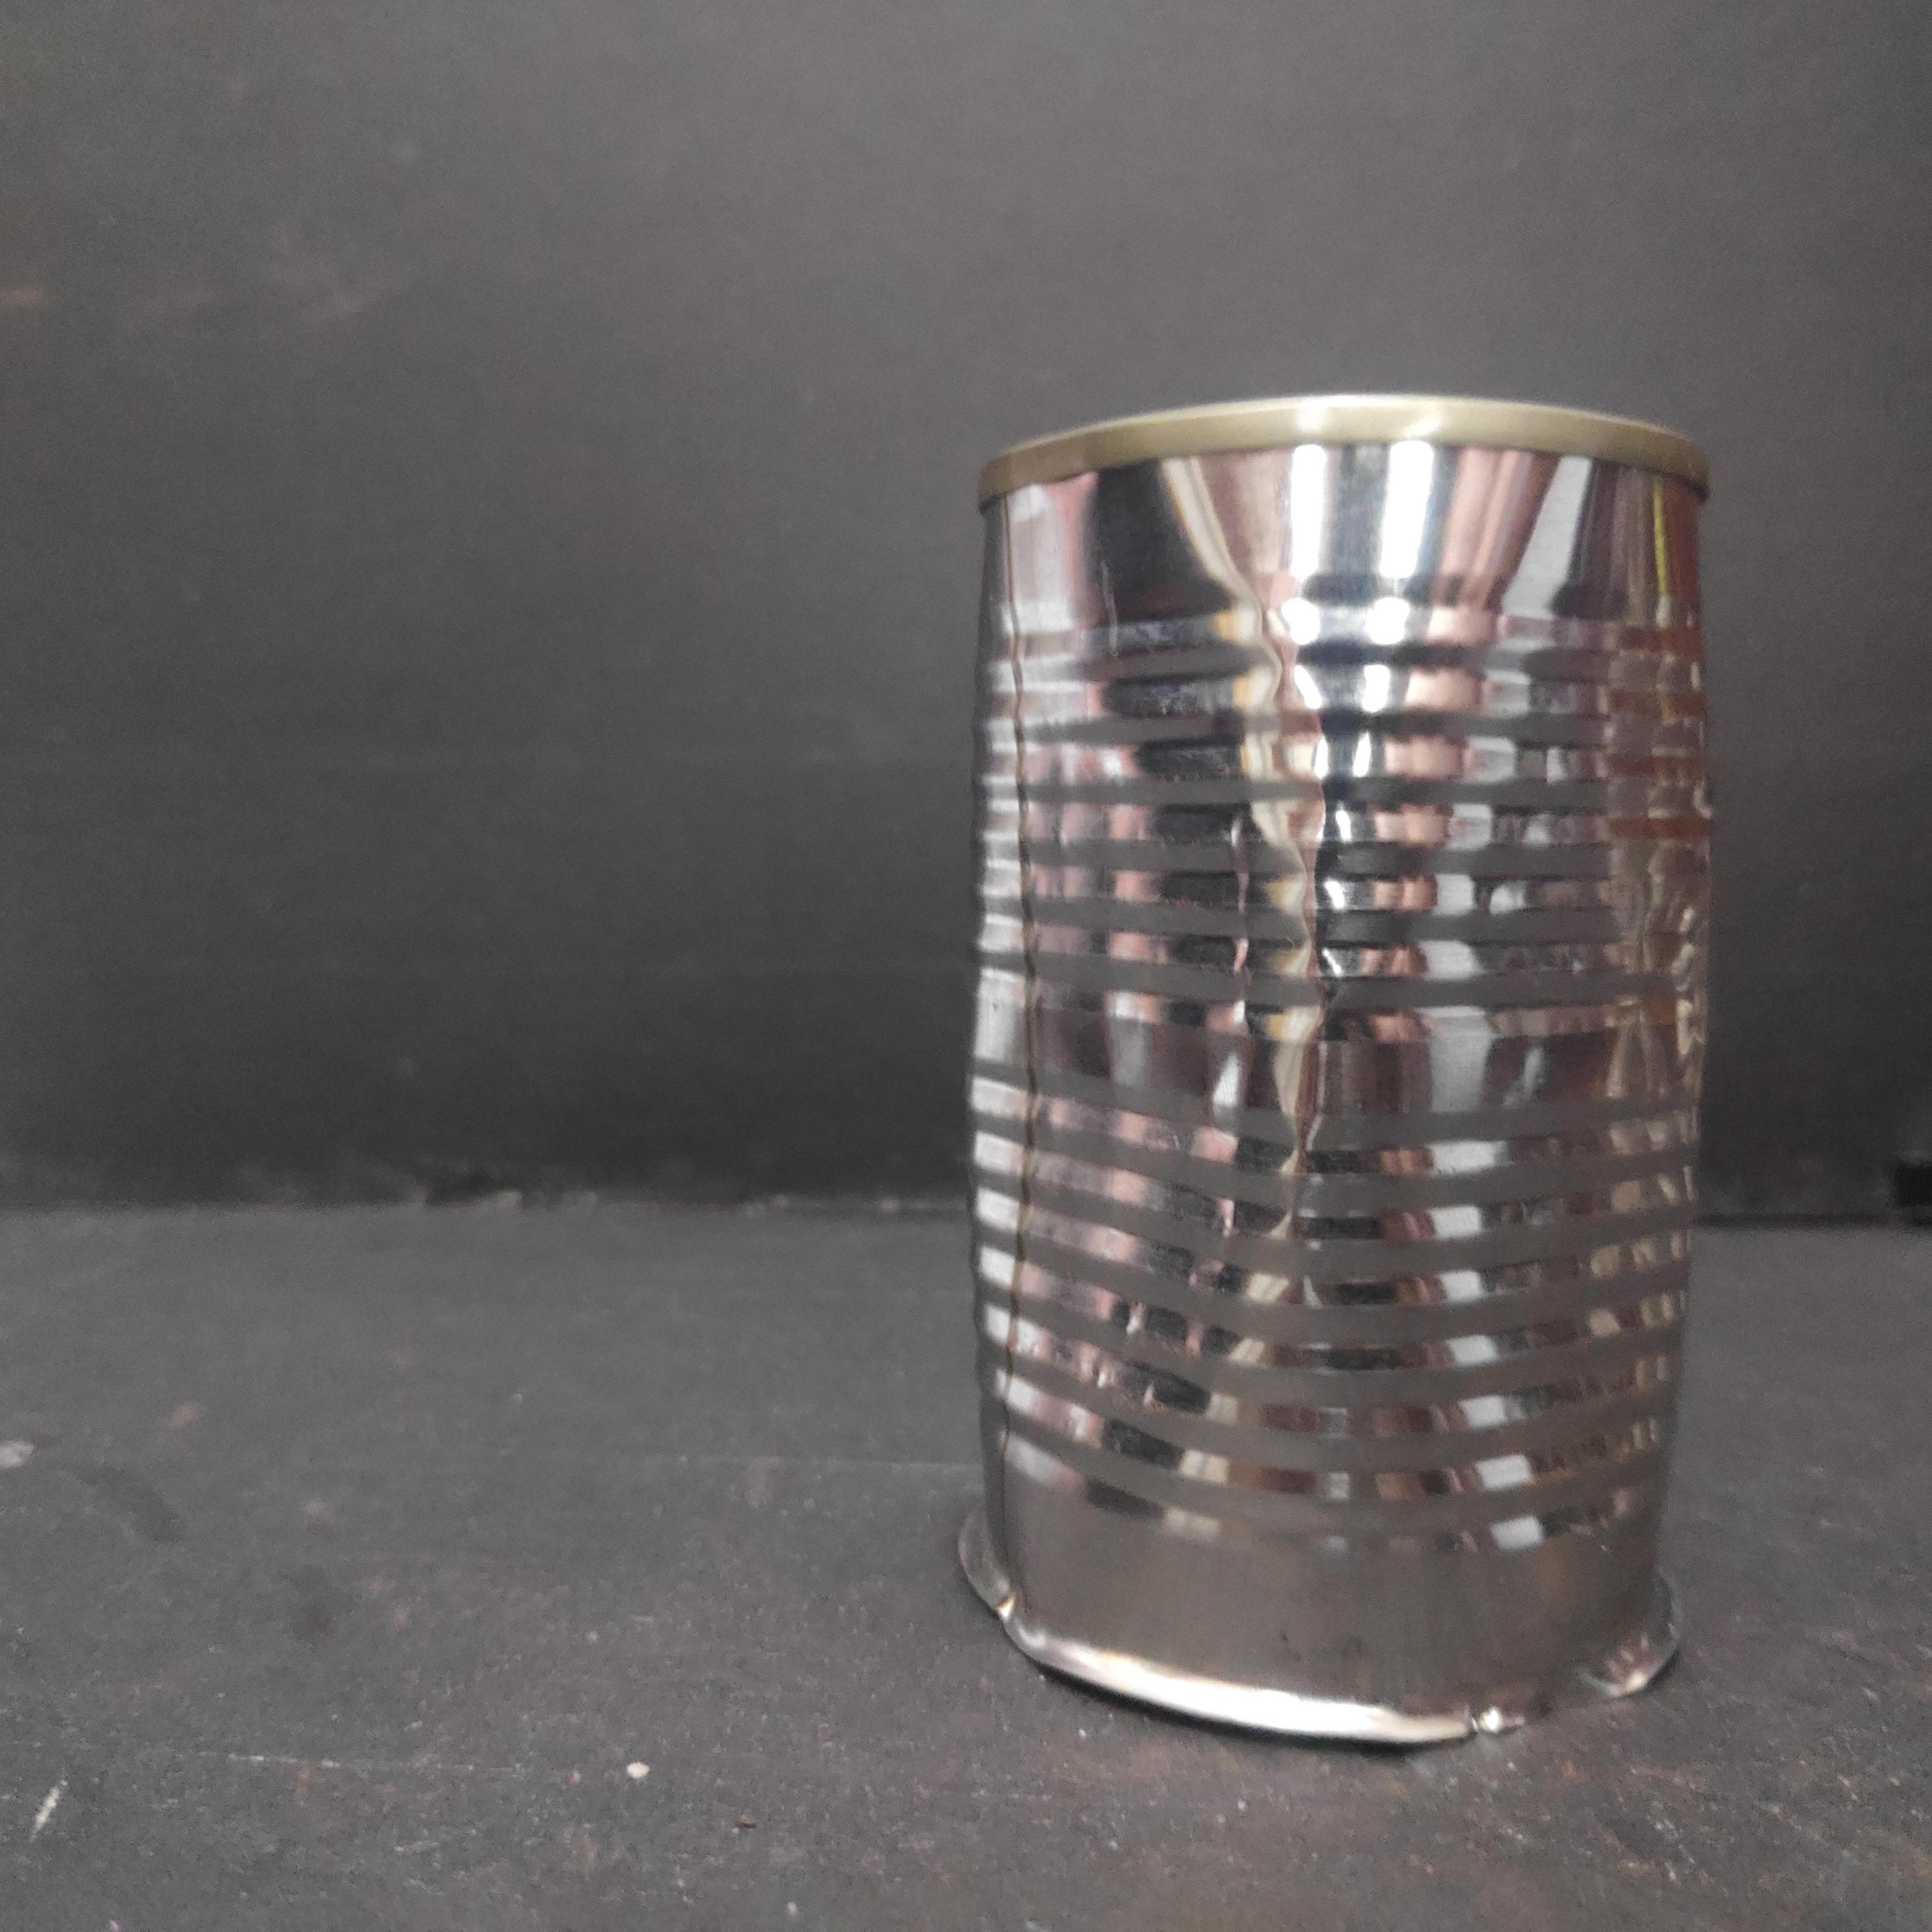Minor Defect: (957, 384, 1737, 1775)
